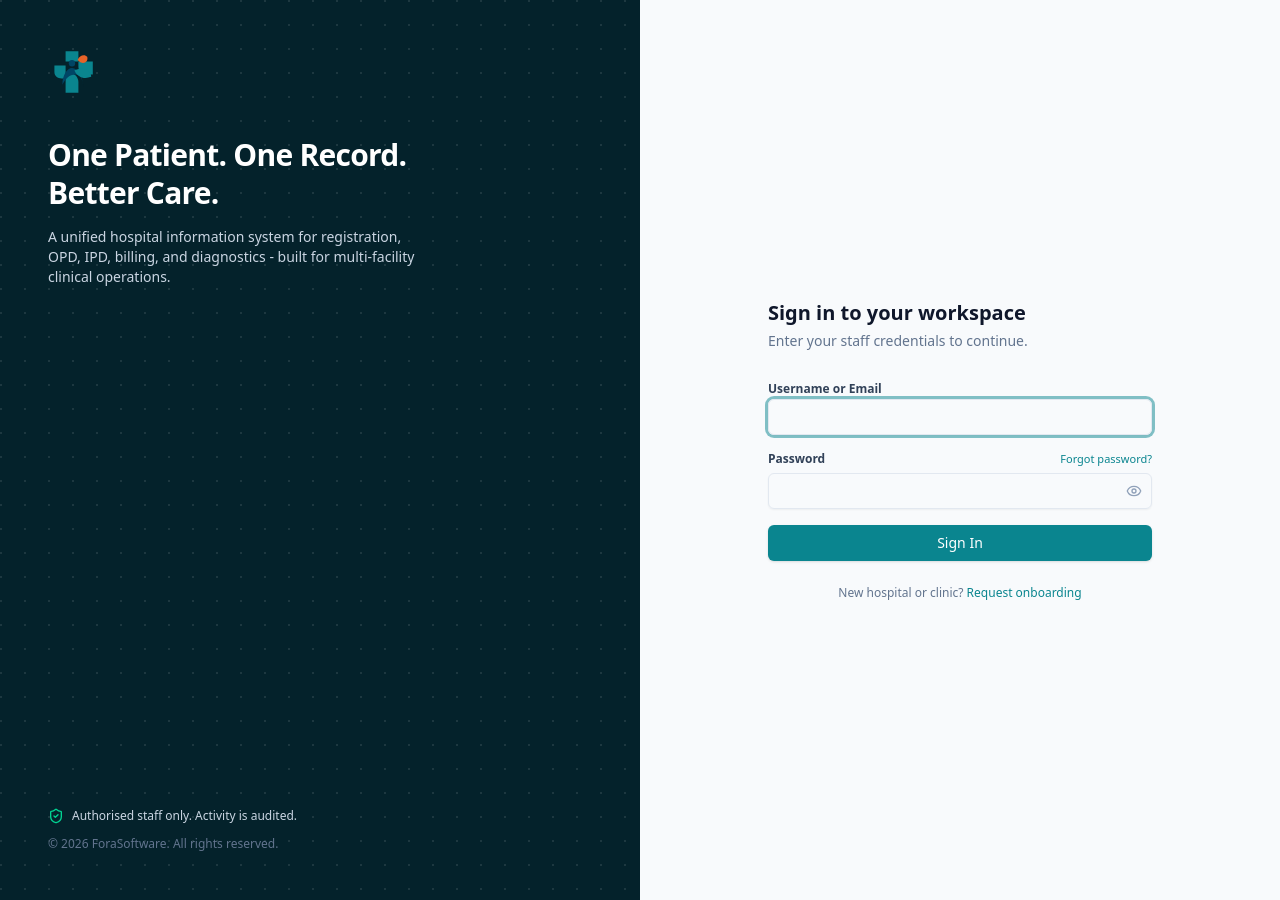
login page › shows the invalid-credentials state without navigating
Type "dr.who" into the field labelled "Username or Email" at (960, 417), box [768, 399, 1152, 435]
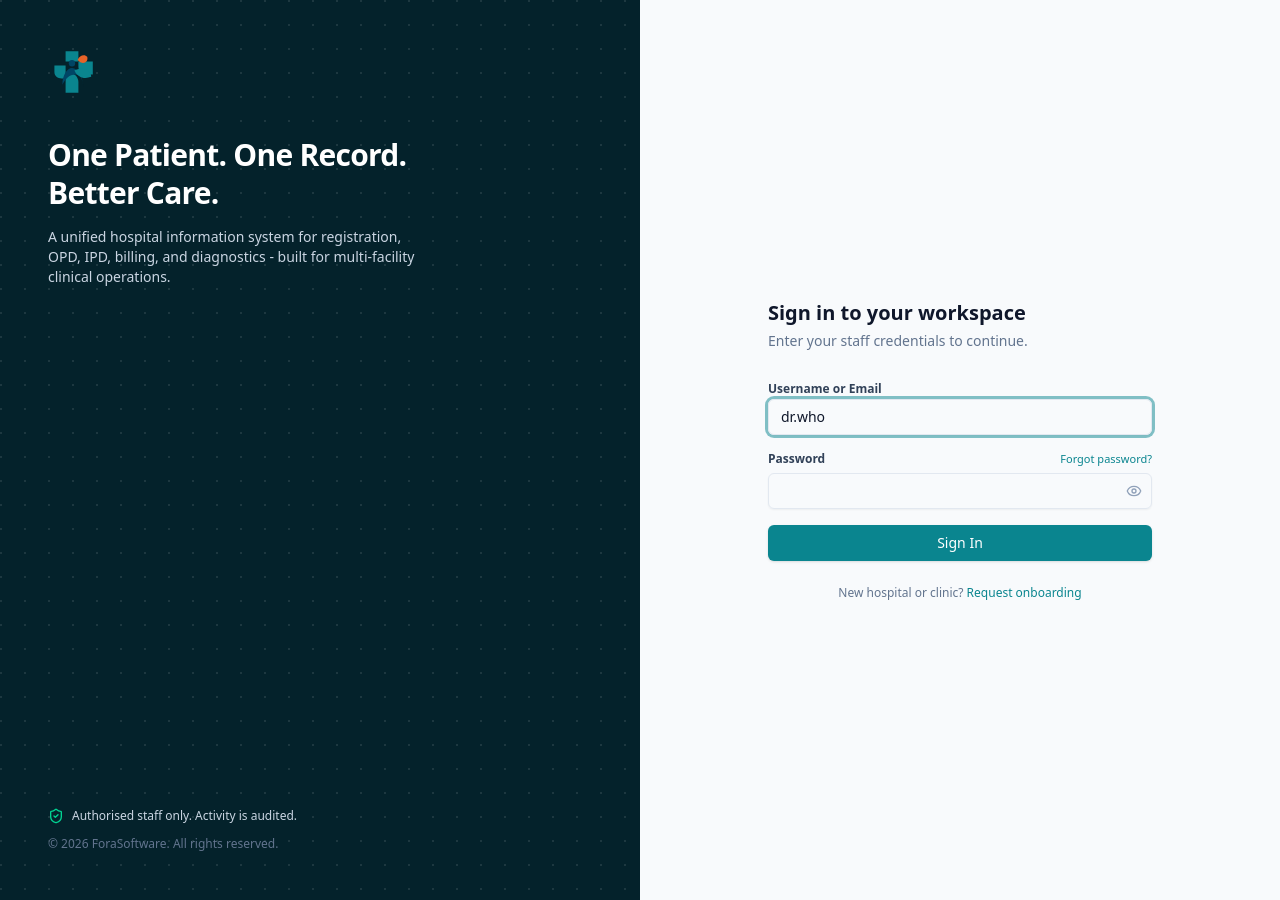
Type "pw" into the password field labelled "Password" at (960, 491), box [768, 473, 1152, 509]
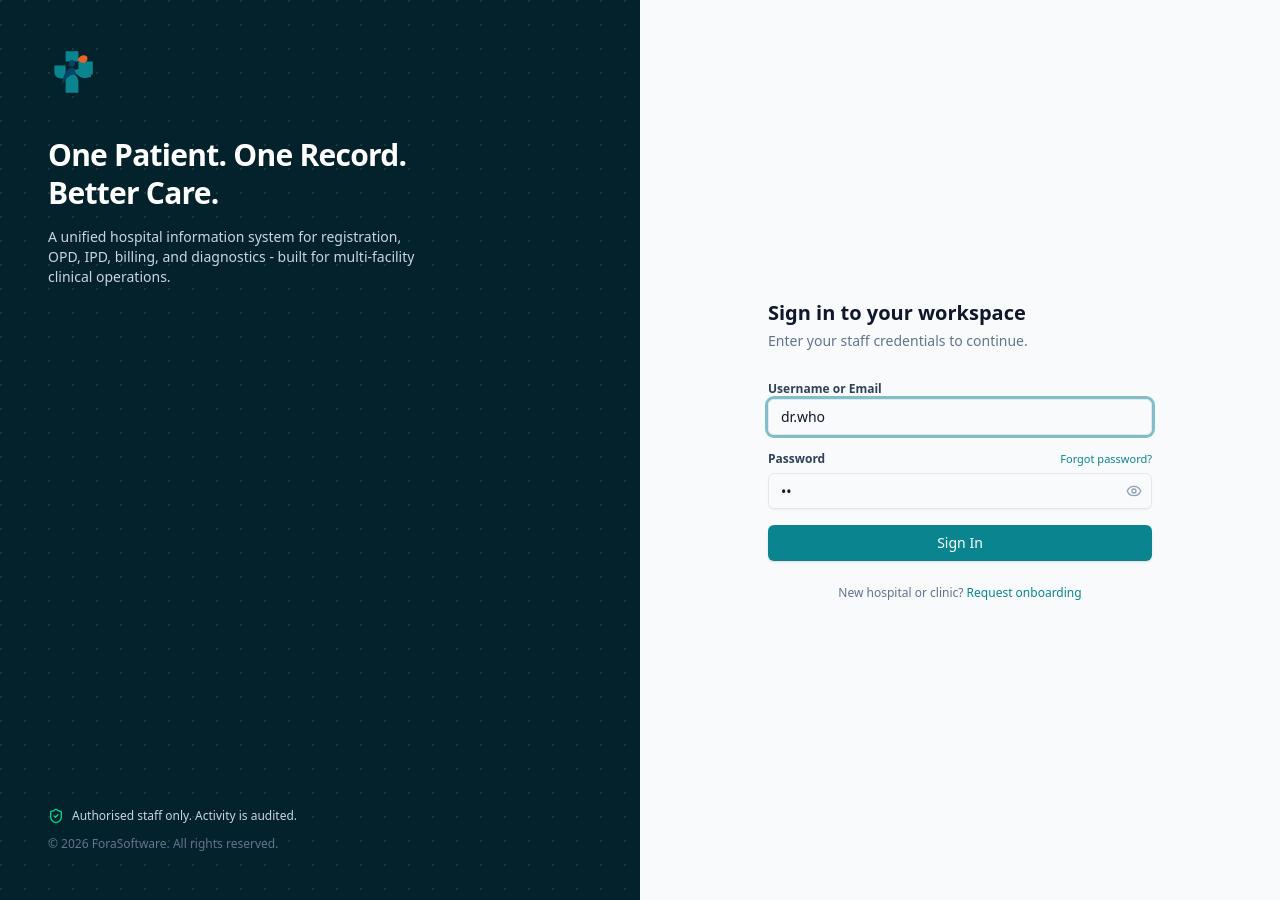
Click the button "Sign In" at (960, 543), box [768, 525, 1152, 561]
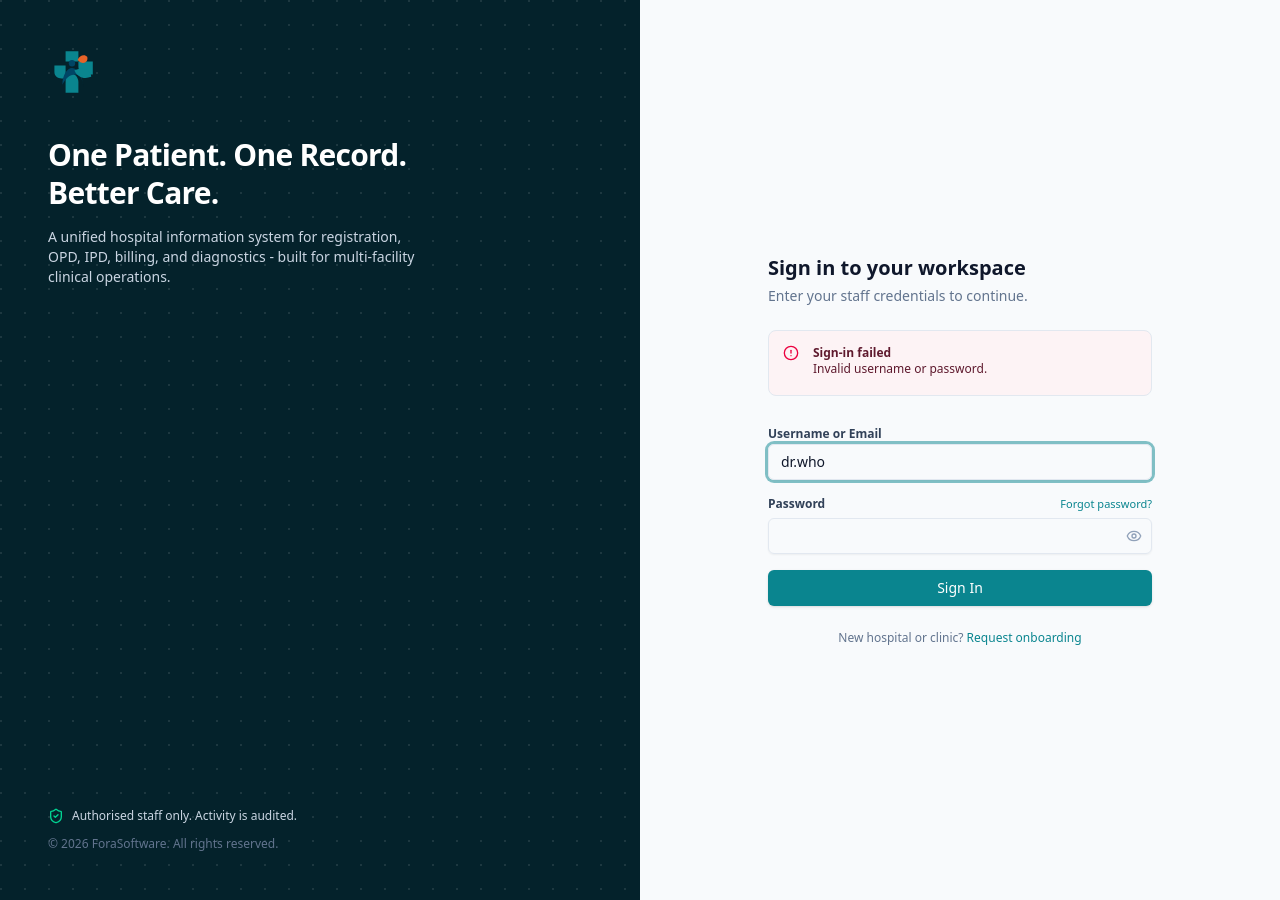
Result: the text "Sign-in failed Invalid username or password." is shown at [813, 344, 987, 377]
